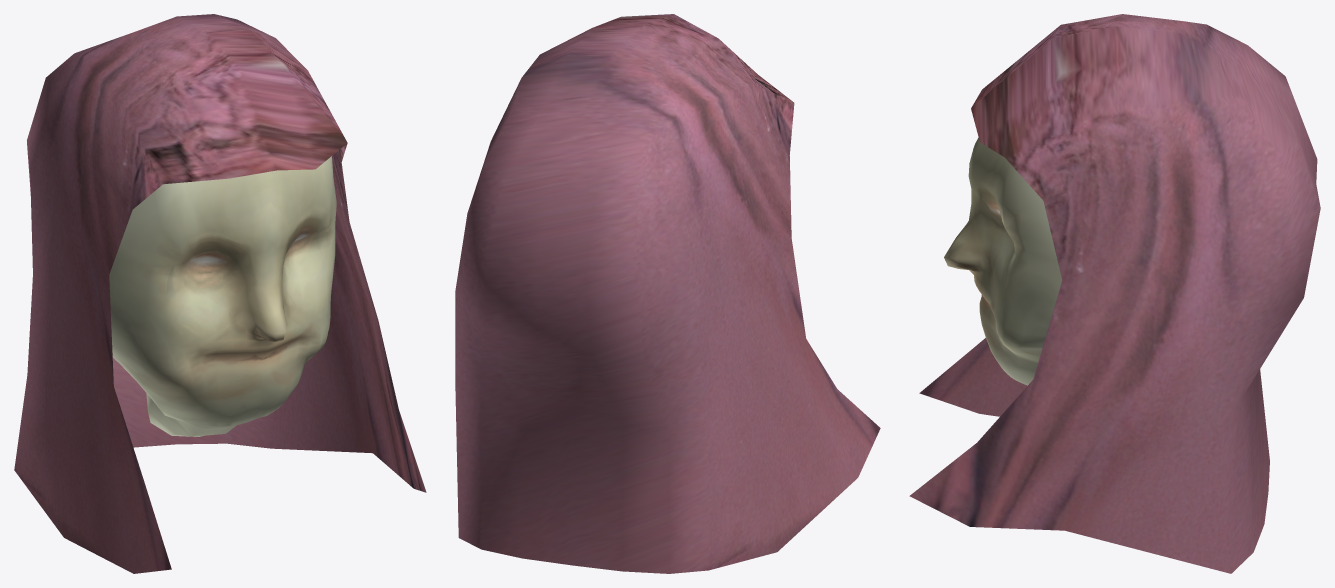
Rendered from SM_Jeanine00.fbx.
The picture shows the model from 3 angles, left to right: view 1: azimuth 30°, elevation 25°; view 2: azimuth 150°, elevation 25°; view 3: azimuth 270°, elevation 25°; orthographic projection. The views are drawn at different scales.
Parts seen in each view (by area): view 1: SM_Jeanine00; view 2: SM_Jeanine00; view 3: SM_Jeanine00.
Part boxes in pixels (x1,y1,x2,y2): SM_Jeanine00: (14, 14, 426, 573); SM_Jeanine00: (455, 14, 880, 573); SM_Jeanine00: (909, 14, 1320, 573).
Bounding box in the file's own units: 39.34 × 64.19 × 49.03.
